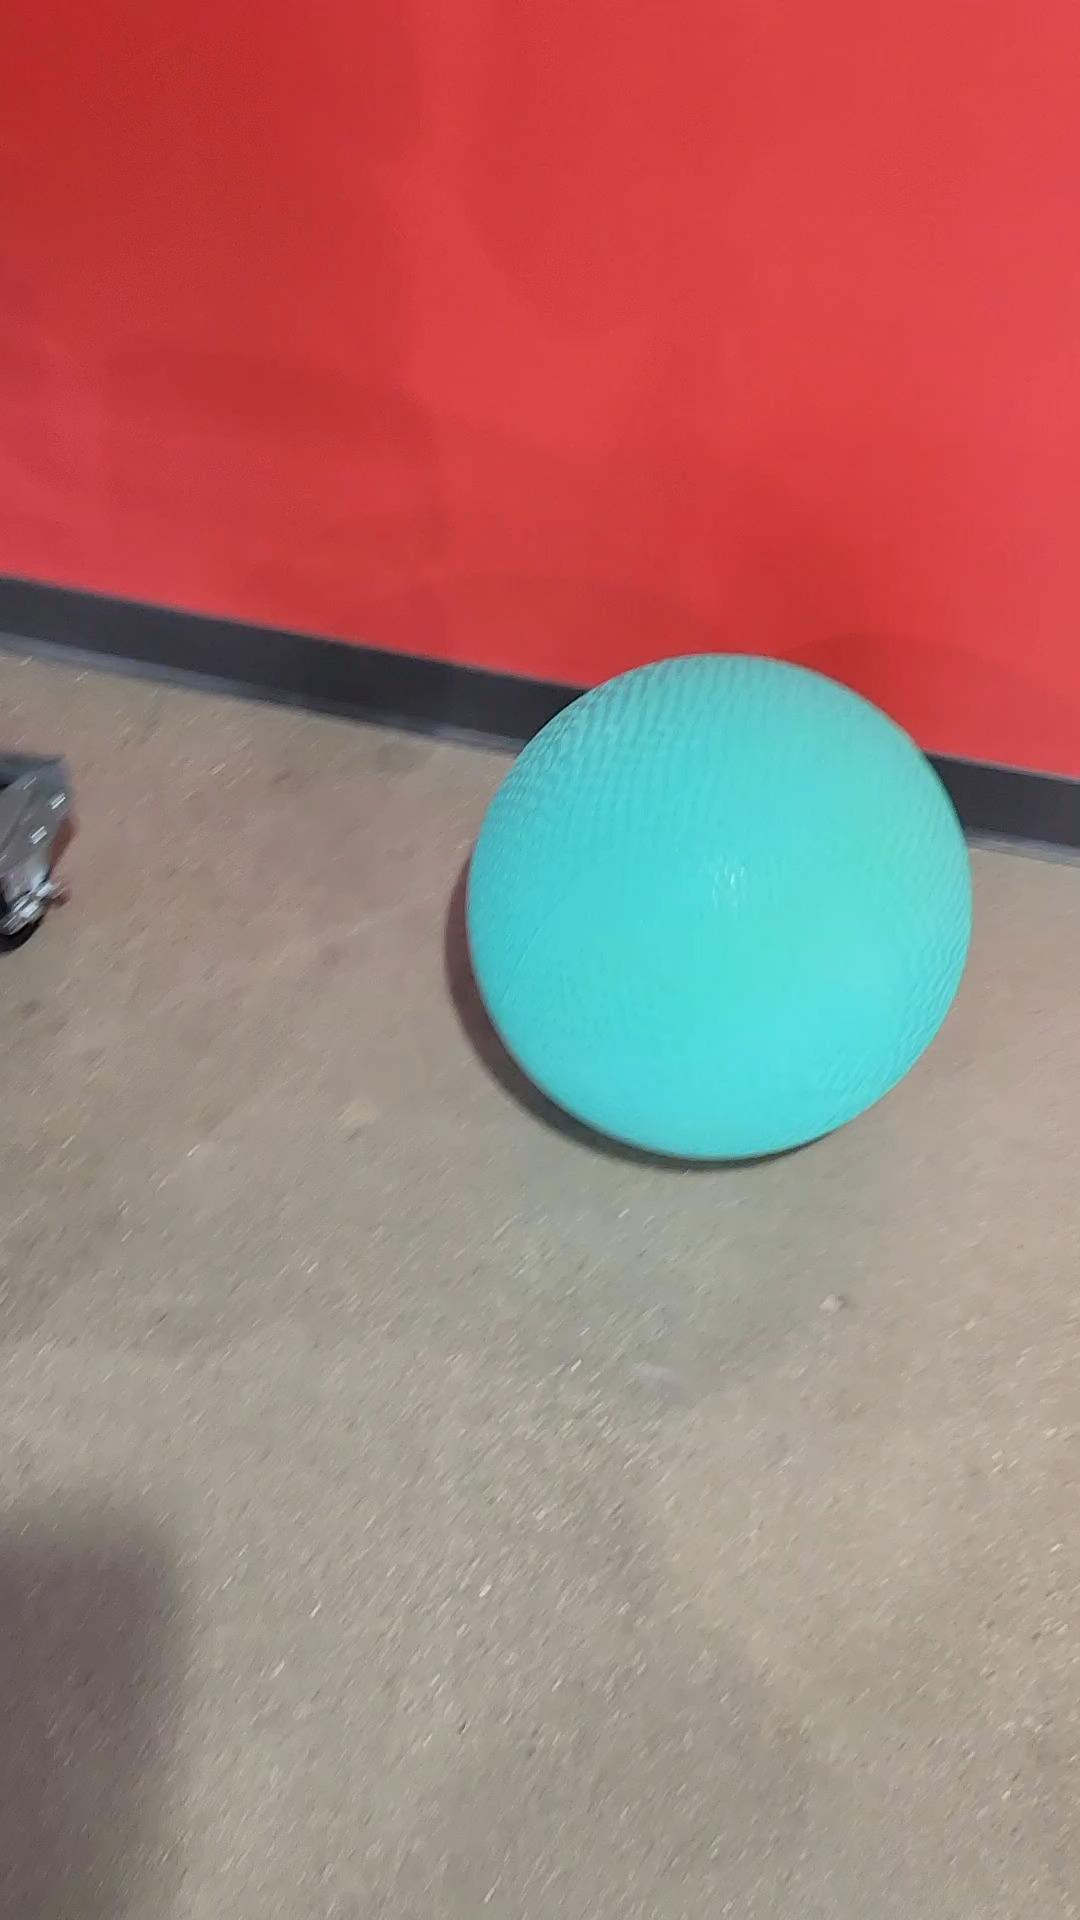algae: (460, 646, 967, 1160)
